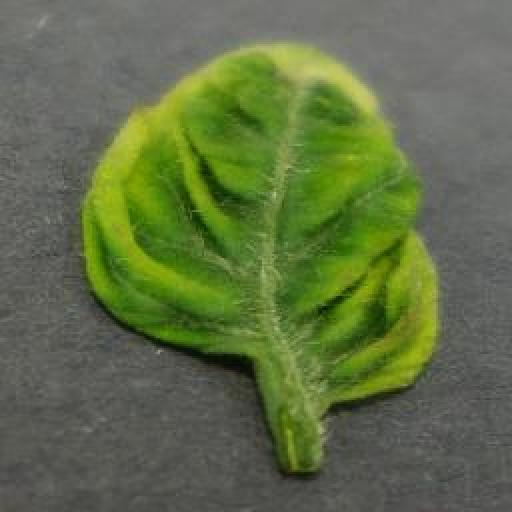disease_tomato: (78, 42, 440, 412)
